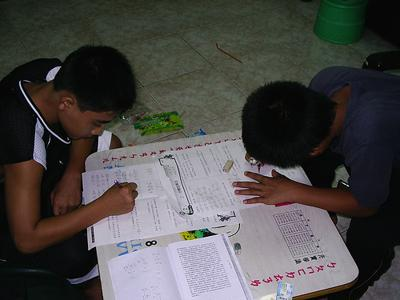person: (2, 45, 138, 282)
